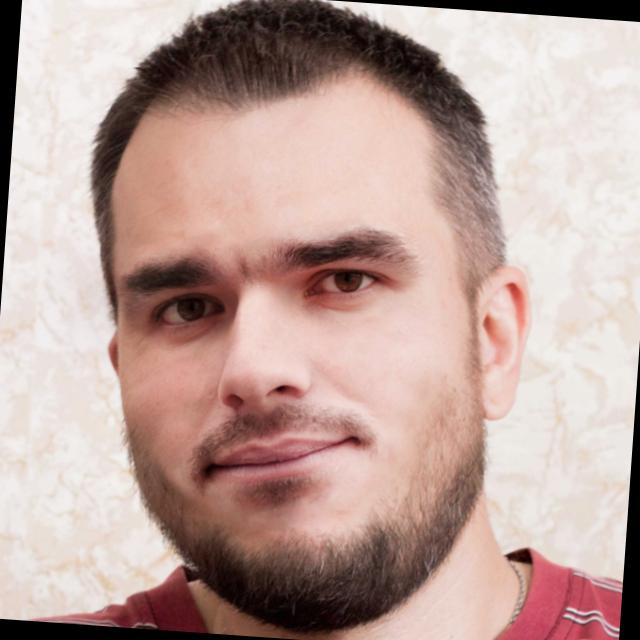face: (29, 0, 575, 631)
